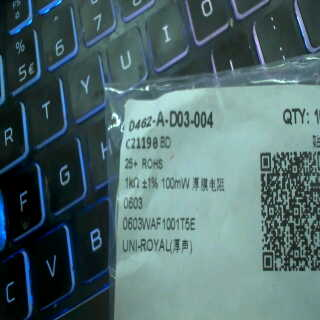1kR: (123, 170, 144, 191)
